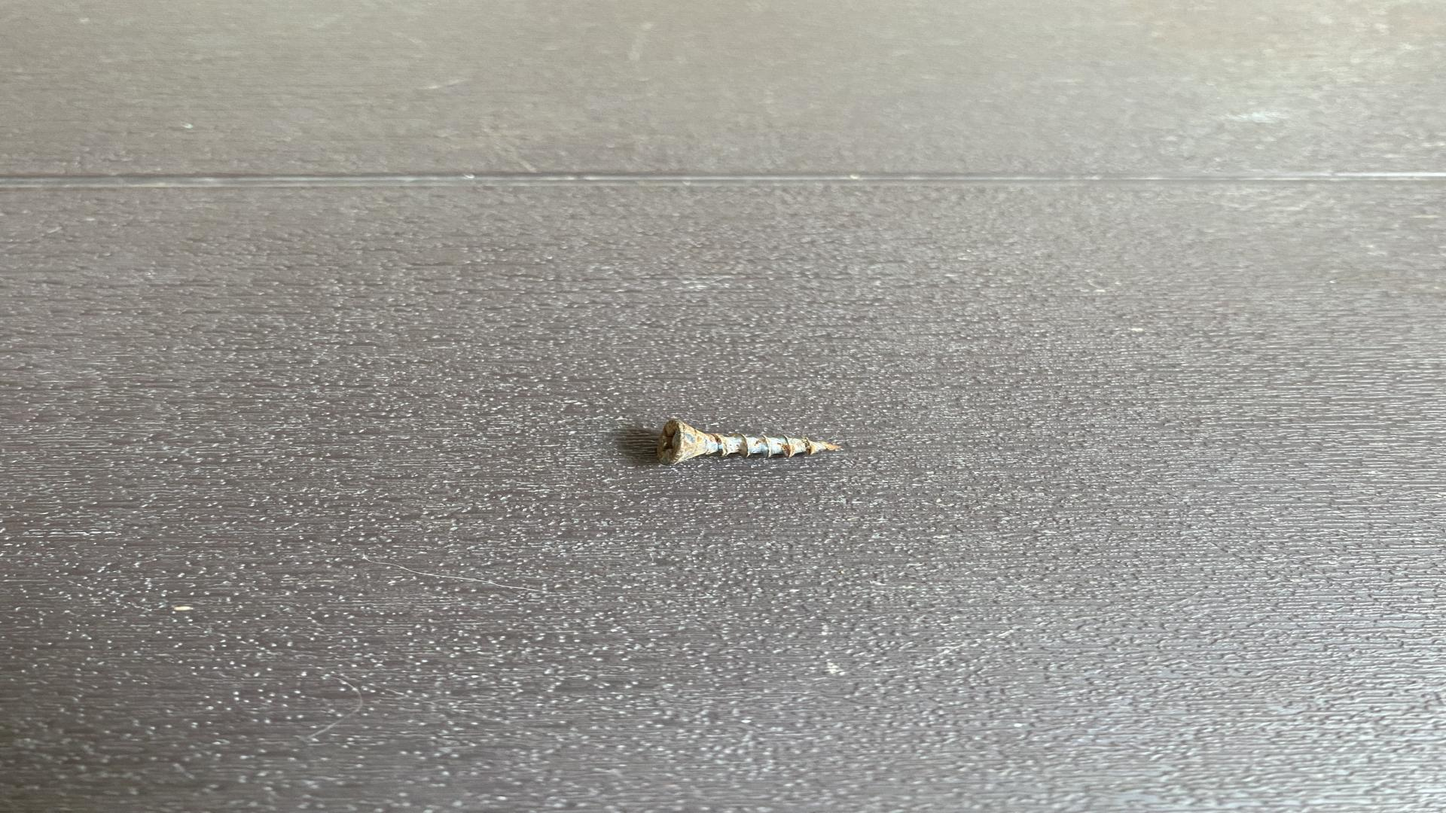screw: (646, 414, 873, 471)
